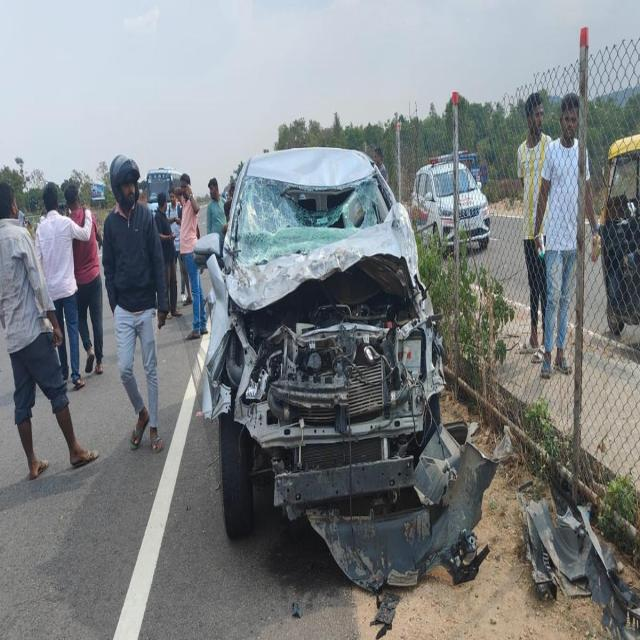crush: (202, 147, 504, 592)
